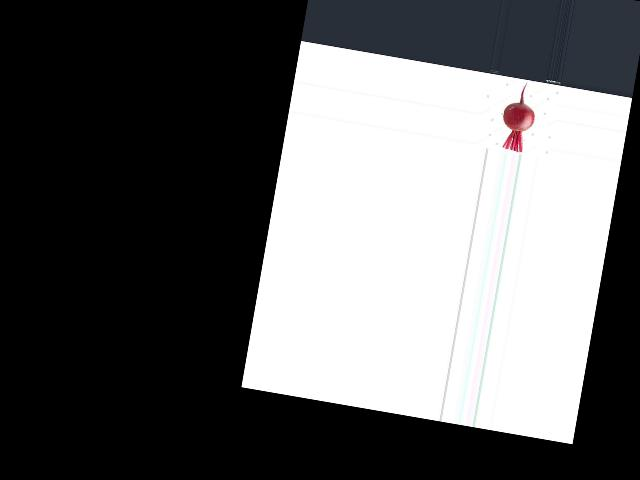beet: (497, 78, 540, 153)
